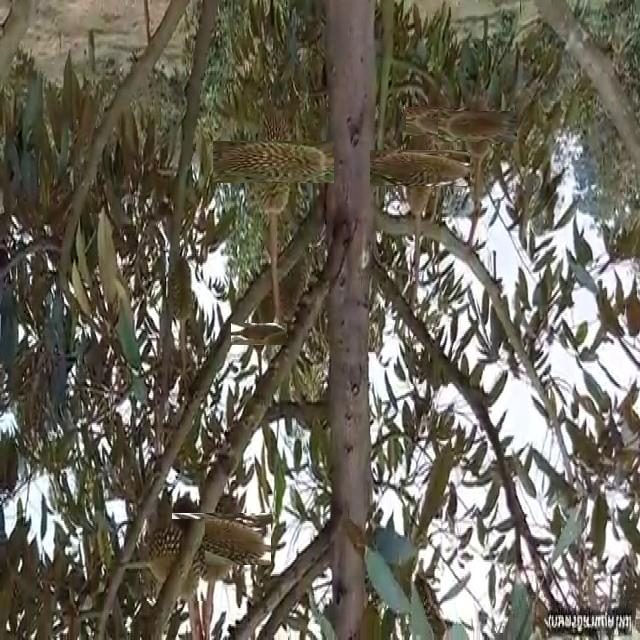durian: (232, 121, 314, 203), (183, 501, 259, 577), (142, 519, 206, 601), (386, 133, 454, 202), (450, 99, 505, 154), (415, 98, 461, 146), (168, 254, 194, 331), (240, 314, 279, 354)
